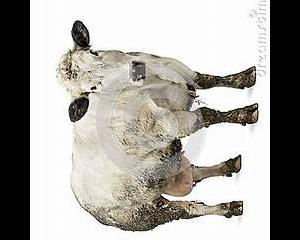cow: (54, 20, 258, 232)
